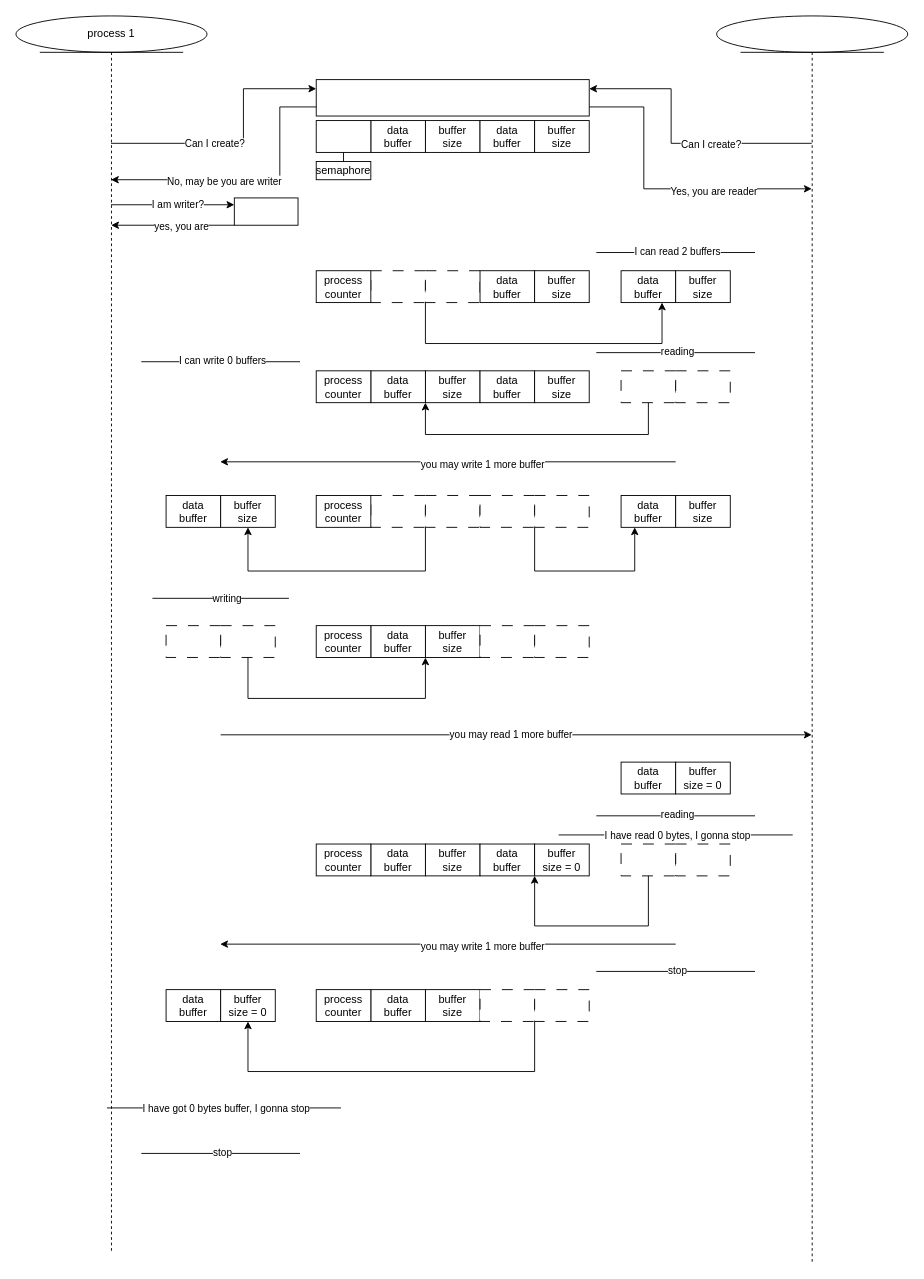
Image size: 924x1279. Some labels were removed from this diagram. Here are the shapes that lost their labels. From the top down, the box of each, then its label:
(315, 79, 589, 116): Shared memory object
(315, 120, 371, 152): message queue
(233, 197, 298, 225): writer semaphore
(716, 15, 908, 1263): process 2
